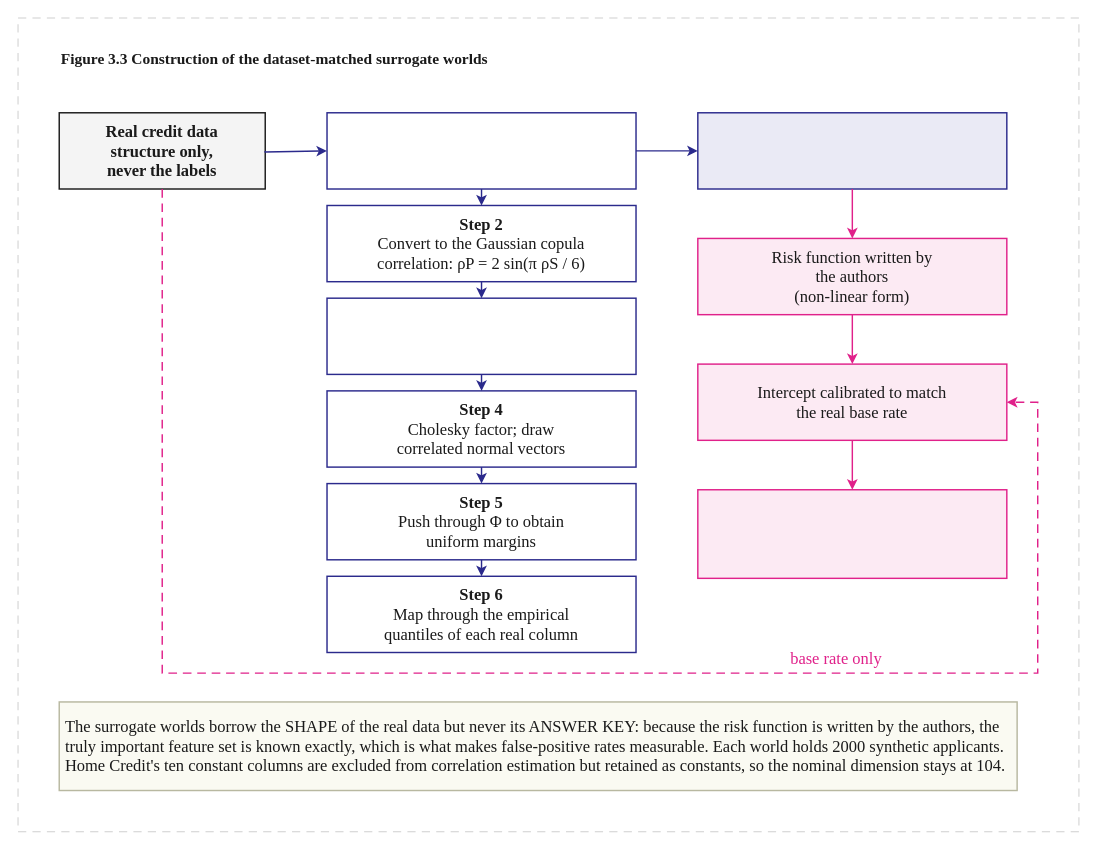
Image size: 1097x850. Some labels were removed from this diagram. The shapes that lost their labels are listed below. From the top down, each one's centre as x and y in pixels, then its label:
At pixel 481 150: "Step 1 Spearman rank-correlation matrix of the real columns".
At pixel 852 150: "Surrogate features same dimension, same rank correlations, same marginals".
At pixel 481 336: "Step 3 Project onto the nearest positive-definite matrix".
At pixel 852 534: "Labels and the true top-K feature set KNOWN GROUND TRUTH".
